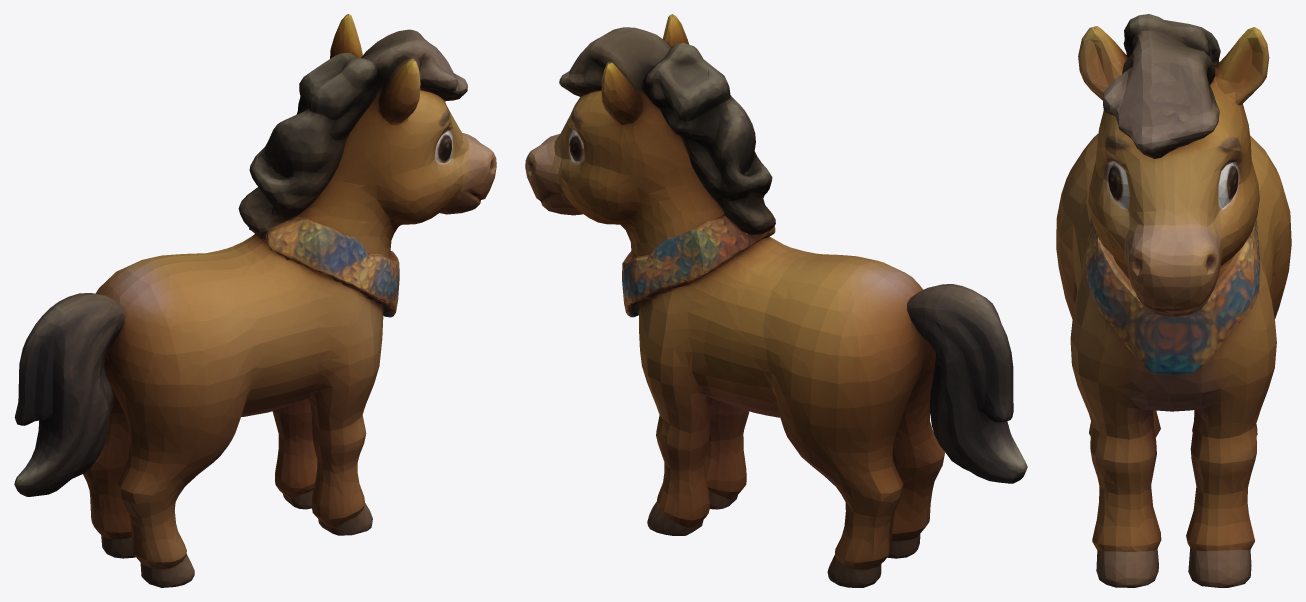
Rendered from ot-trellis.glb.
The picture shows the model from 3 angles, left to right: view 1: azimuth 30°, elevation 25°; view 2: azimuth 150°, elevation 25°; view 3: azimuth 270°, elevation 25°; orthographic projection. The views are drawn at different scales.
Parts seen in each view (by area): view 1: world; view 2: world; view 3: world.
Boxes of the visible parts, x1,y1,x2,y2 form: world: [14, 14, 496, 587]; world: [525, 14, 1027, 587]; world: [1056, 14, 1291, 587].
Size of the model in its own units: 0.8302 by 0.7738 by 0.2789.
1 material, 1 textured.
